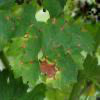grape leaf black rot: (9, 3, 94, 92)
